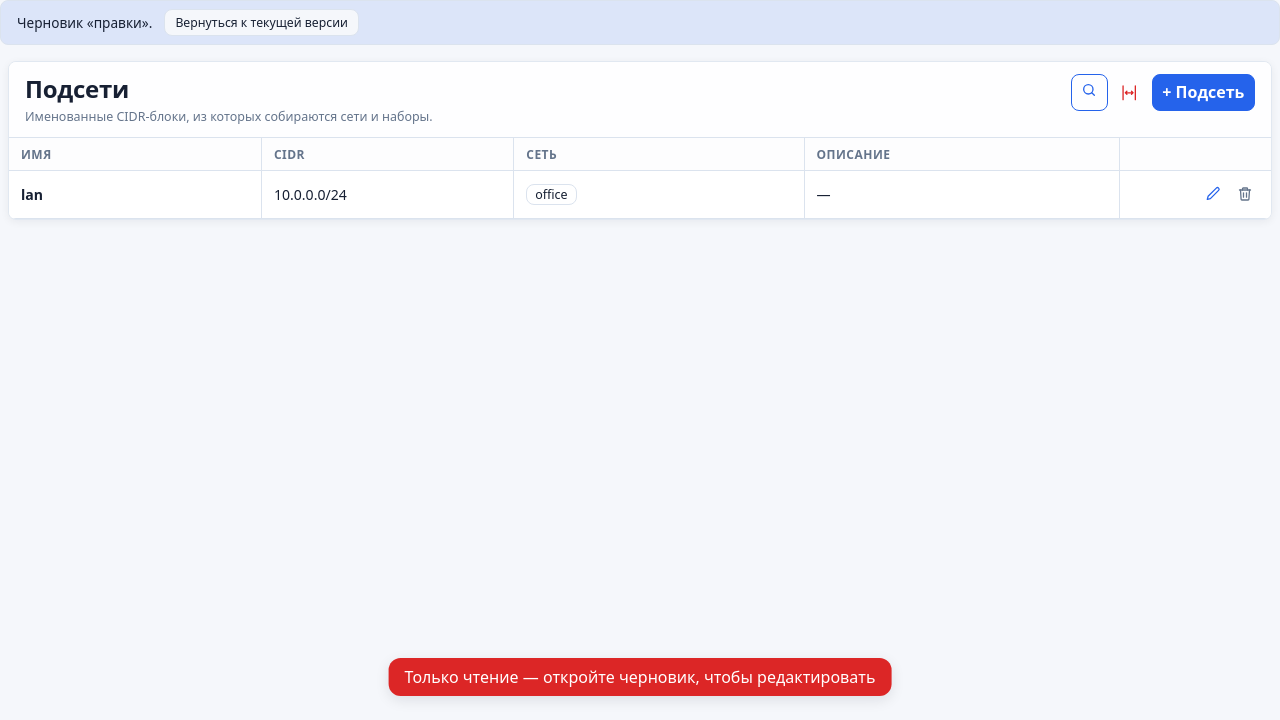
Test: SubnetsPage › saves the whole list through PUT
This screenshot has width=1280, height=720.
Expected: the text "lan" is shown, left=9, top=170, right=261, bottom=218
Click the button titled "Добавить подсеть": [1203, 92] box left=1152, top=74, right=1255, bottom=111
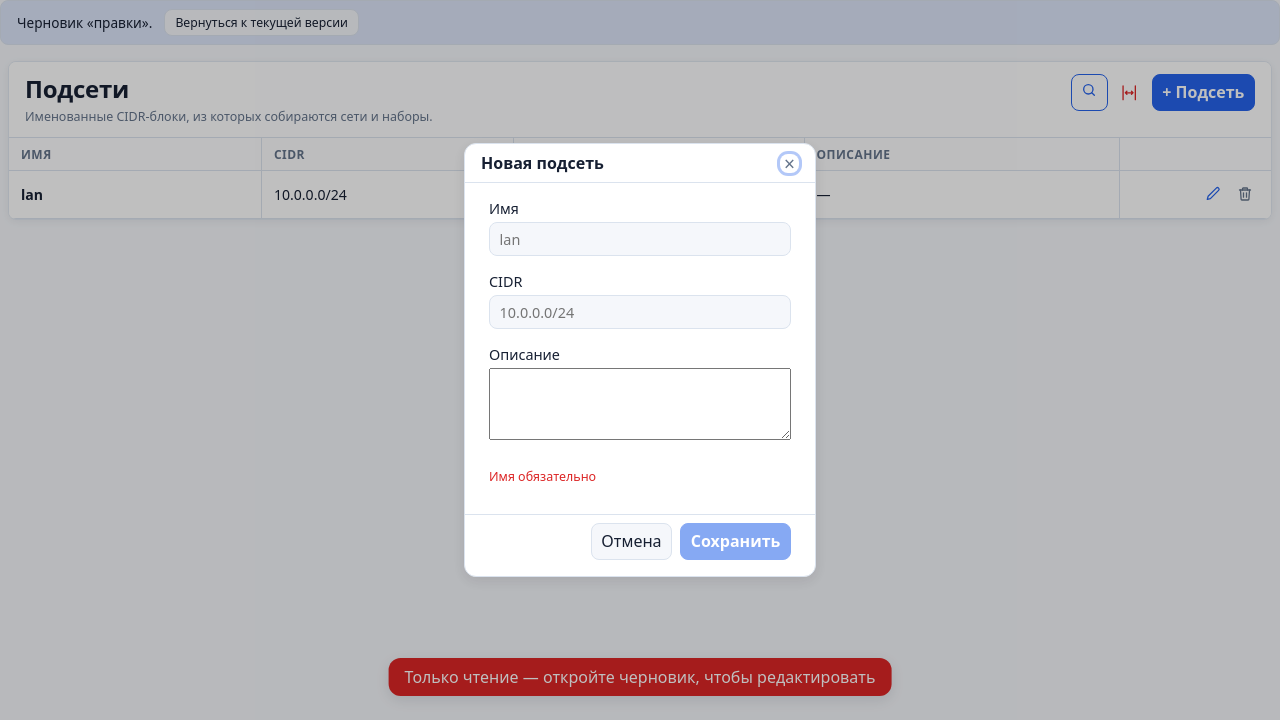
In the field labelled "Имя": [640, 239] box left=489, top=222, right=791, bottom=256, type "guest"
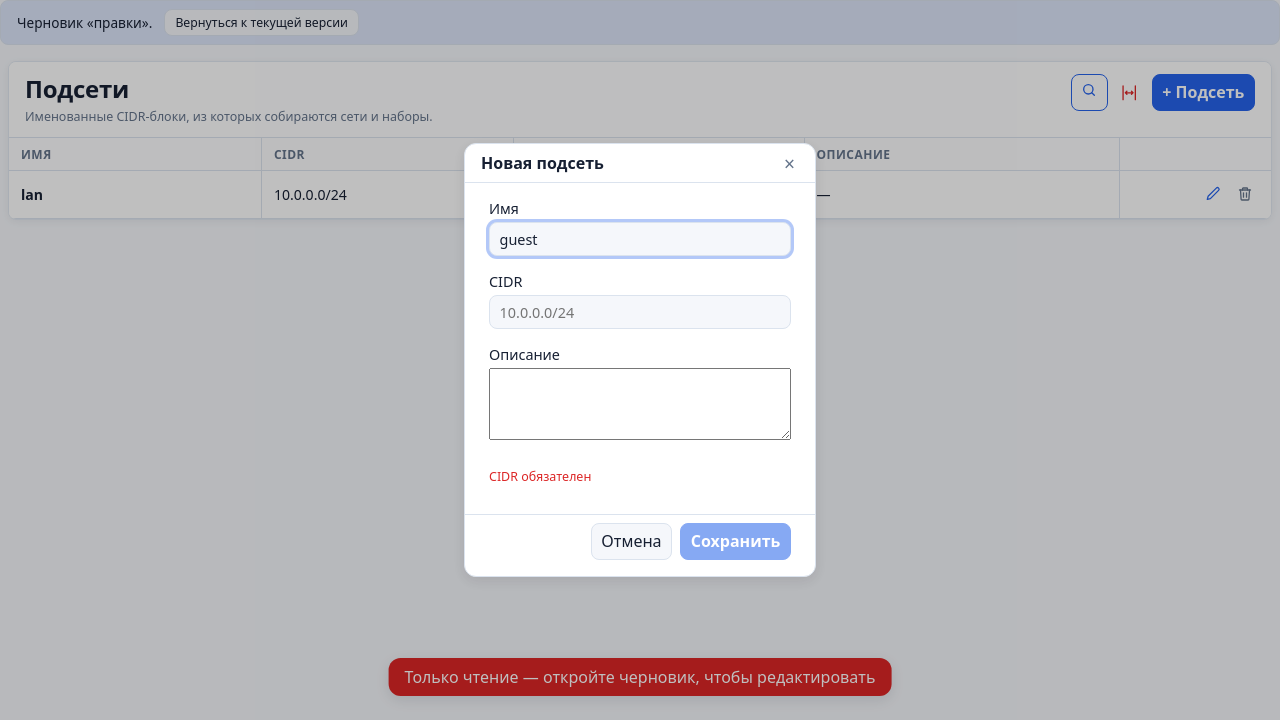
In the field labelled "CIDR": [640, 312] box left=489, top=295, right=791, bottom=329, type "192.168.5.0/24"
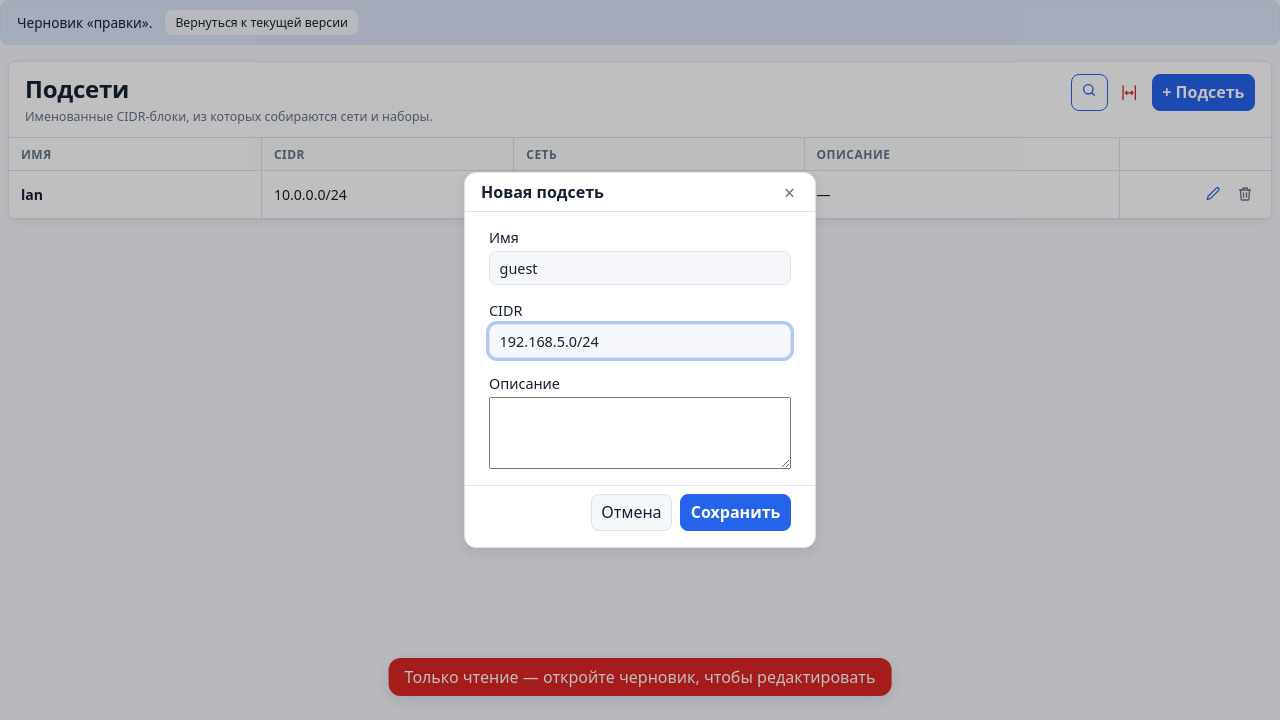
Click the button "Сохранить": [736, 512] box left=680, top=494, right=791, bottom=531
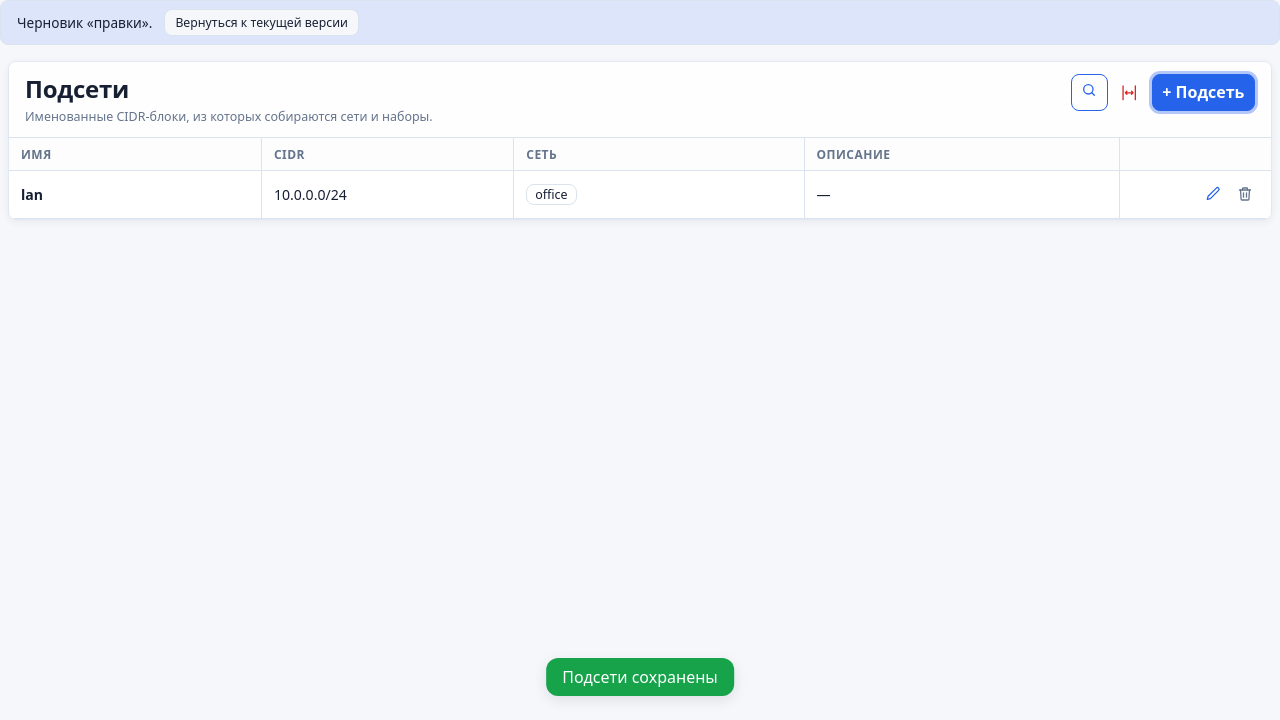
Expected: the text "Подсети сохранены" is shown, left=546, top=658, right=734, bottom=696
